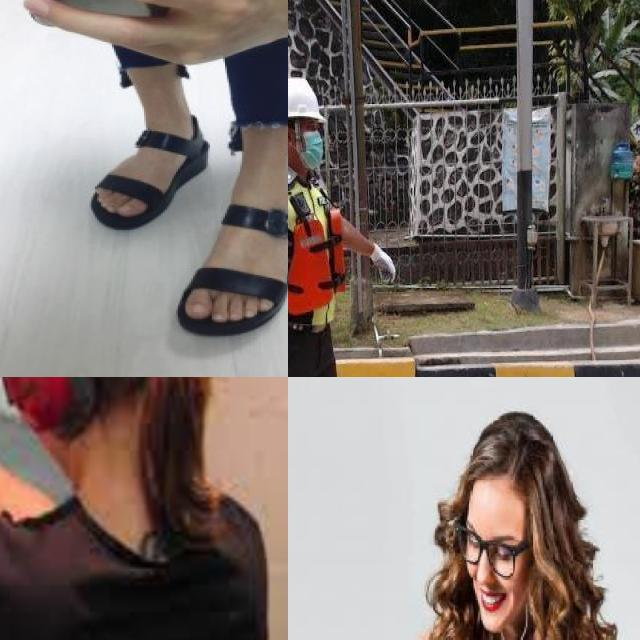Ear-protection: (0, 377, 214, 503)
Sandals: (176, 179, 288, 338), (87, 109, 193, 234)
face_nomask: (462, 508, 521, 640)
glasses: (456, 520, 520, 584)
head_helmet: (288, 72, 334, 129)
head_nohelmet: (462, 398, 568, 507)
person: (367, 386, 640, 640), (288, 41, 423, 377)
vest: (288, 163, 351, 321)
